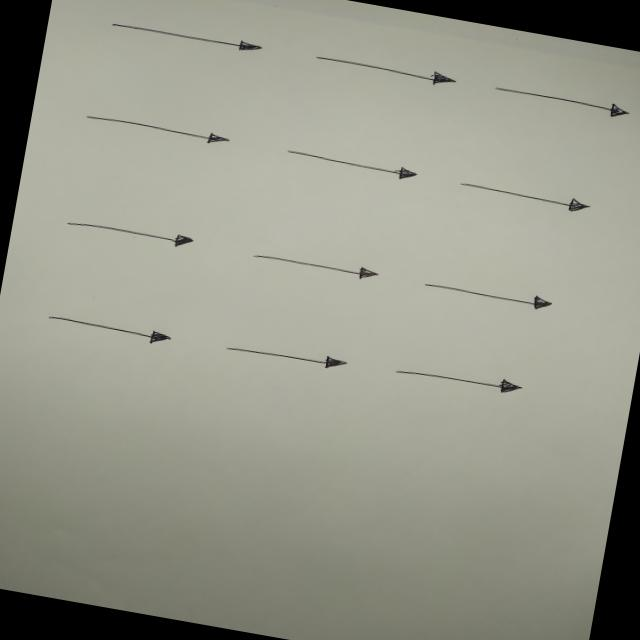arrow_line_up: (240, 150, 317, 242), (118, 14, 175, 90), (430, 76, 482, 153), (230, 254, 282, 324), (281, 42, 322, 125), (106, 120, 148, 199), (340, 356, 384, 424), (74, 313, 120, 374), (388, 176, 424, 250), (358, 275, 398, 333), (88, 230, 124, 294), (230, 340, 263, 394)
